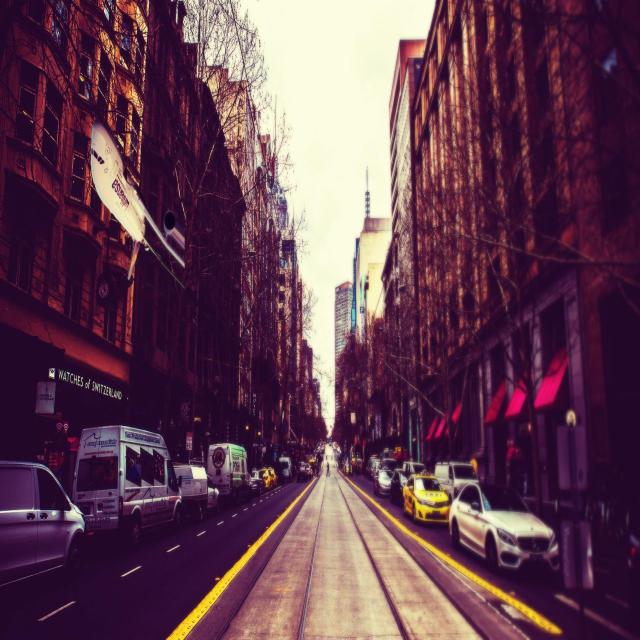airplane: (90, 118, 186, 281)
